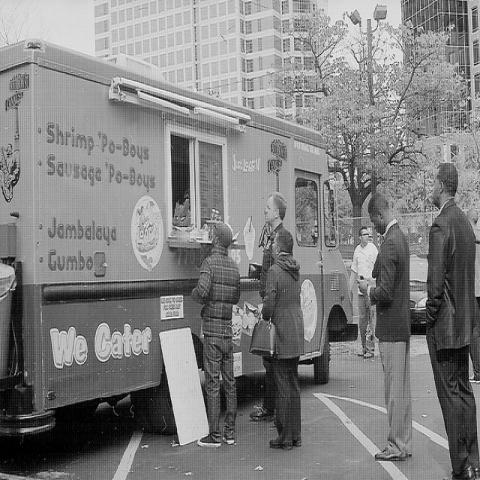car: (409, 280, 428, 336)
truck: (0, 45, 356, 465)
